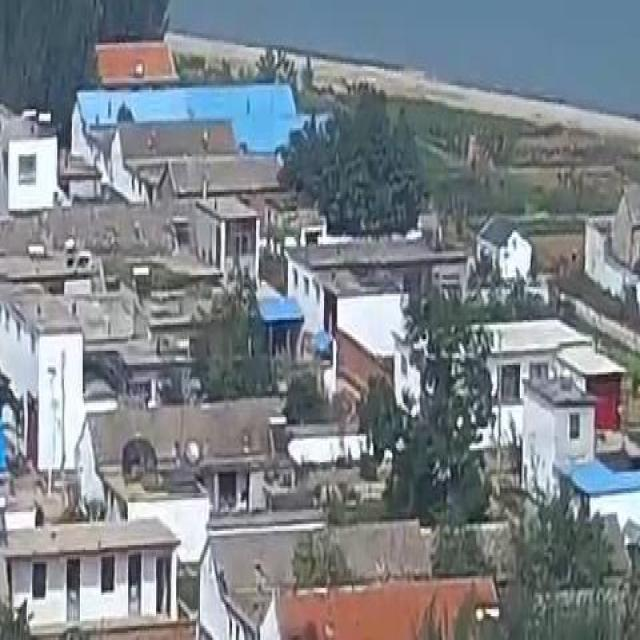other: (265, 558, 517, 635), (73, 27, 196, 80), (584, 388, 629, 448)
